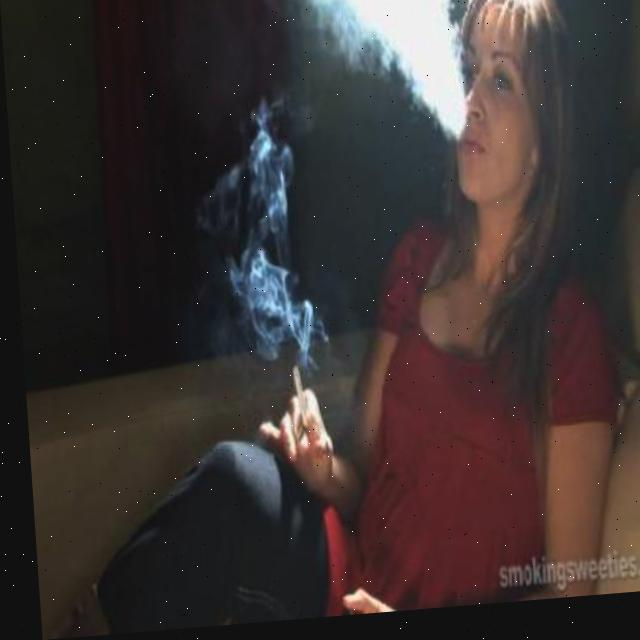cigarette: (286, 370, 304, 443)
